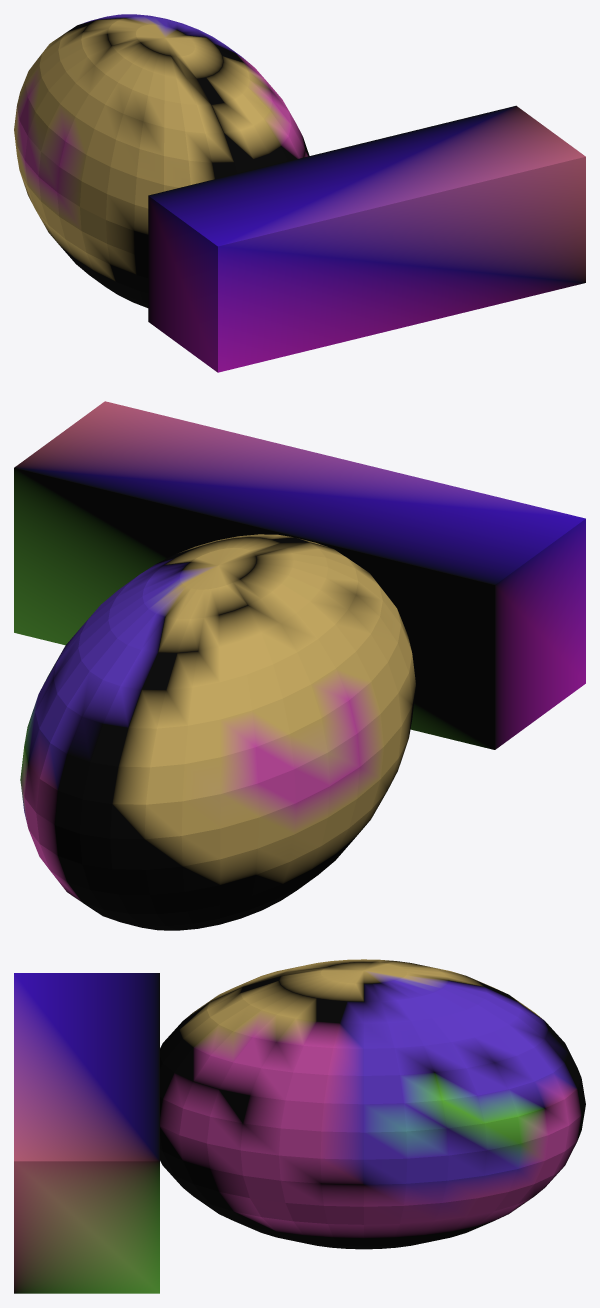
Rendered from ObjectPair.obj.
3 renders of one model, top to bottom at view 1: azimuth 30°, elevation 25°; view 2: azimuth 150°, elevation 25°; view 3: azimuth 270°, elevation 25°, orthographic. The views are drawn at different scales.
Parts seen in each view (by area): view 1: Cube, Sphere; view 2: Sphere, Cube; view 3: Sphere, Cube.
Boxes of the visible parts, x1=… form: Cube: x1=148, y1=105, x2=585, y2=372; Sphere: x1=14, y1=14, x2=309, y2=307; Sphere: x1=20, y1=534, x2=415, y2=930; Cube: x1=14, y1=401, x2=585, y2=749; Sphere: x1=160, y1=959, x2=585, y2=1249; Cube: x1=14, y1=973, x2=159, y2=1293.
Size of the model in its own units: 2 by 1.33 by 2.57.
